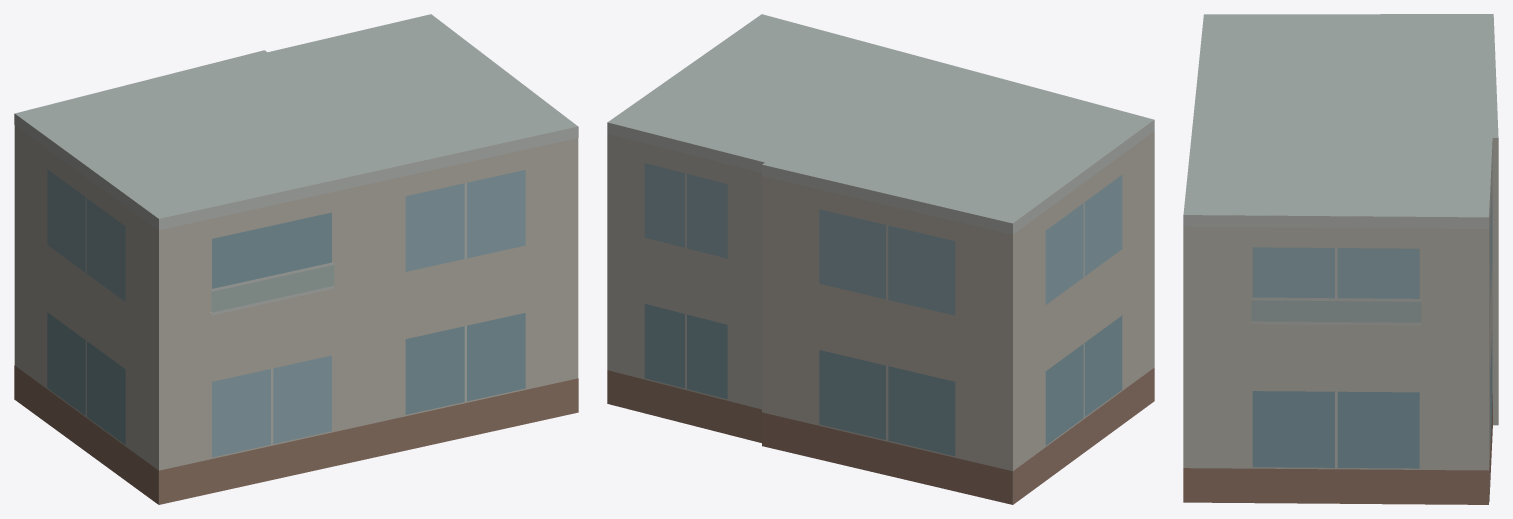
The model's file is survey-upis-32487729.glb.
The picture shows the model from 3 angles, left to right: view 1: azimuth 30°, elevation 25°; view 2: azimuth 150°, elevation 25°; view 3: azimuth 270°, elevation 25°; orthographic projection. The views are drawn at different scales.
Visible parts, largest first — view 1: survey-upis-32487729.tmp; view 2: survey-upis-32487729.tmp; view 3: survey-upis-32487729.tmp.
Part boxes in pixels (<box>): survey-upis-32487729.tmp: <box>14,14,578,504</box>; survey-upis-32487729.tmp: <box>607,14,1154,504</box>; survey-upis-32487729.tmp: <box>1183,14,1498,504</box>.
Bounding box in the file's own units: 9.27 × 6.1 × 6.07.
